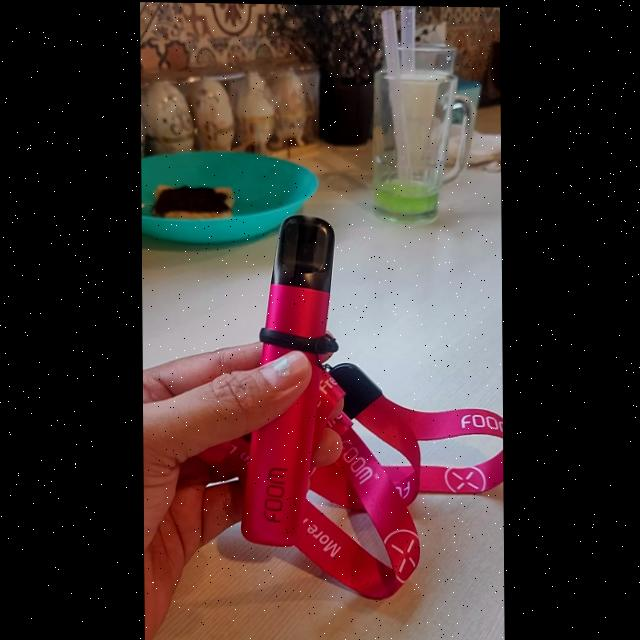vape: (238, 213, 340, 549)
